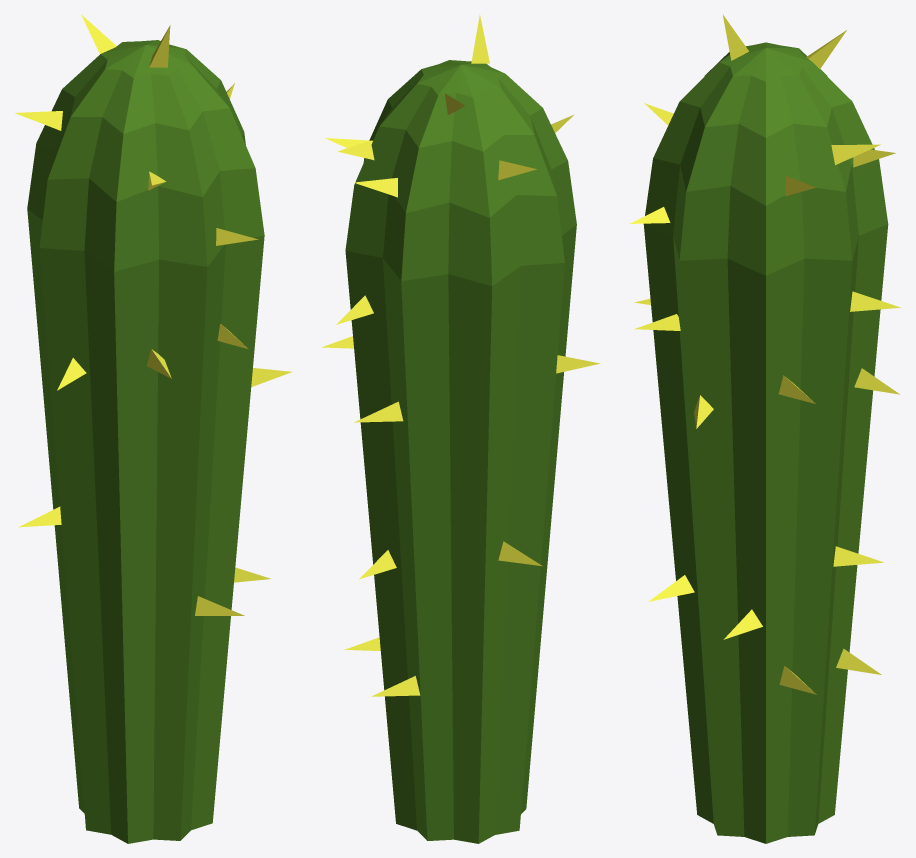
The model's file is Cactus_19_B.fbx.
3 views of the same model, side by side, from view 1: azimuth 30°, elevation 25°; view 2: azimuth 150°, elevation 25°; view 3: azimuth 270°, elevation 25° (orthographic). The views are drawn at different scales.
Parts seen in each view (by area): view 1: Cactus_19_B; view 2: Cactus_19_B; view 3: Cactus_19_B.
Part boxes in pixels (x1,y1,x2,y2): Cactus_19_B: [15, 14, 291, 843]; Cactus_19_B: [321, 14, 600, 843]; Cactus_19_B: [630, 14, 900, 843].
Bounding box in the file's own units: 78.65 × 258 × 79.44.
